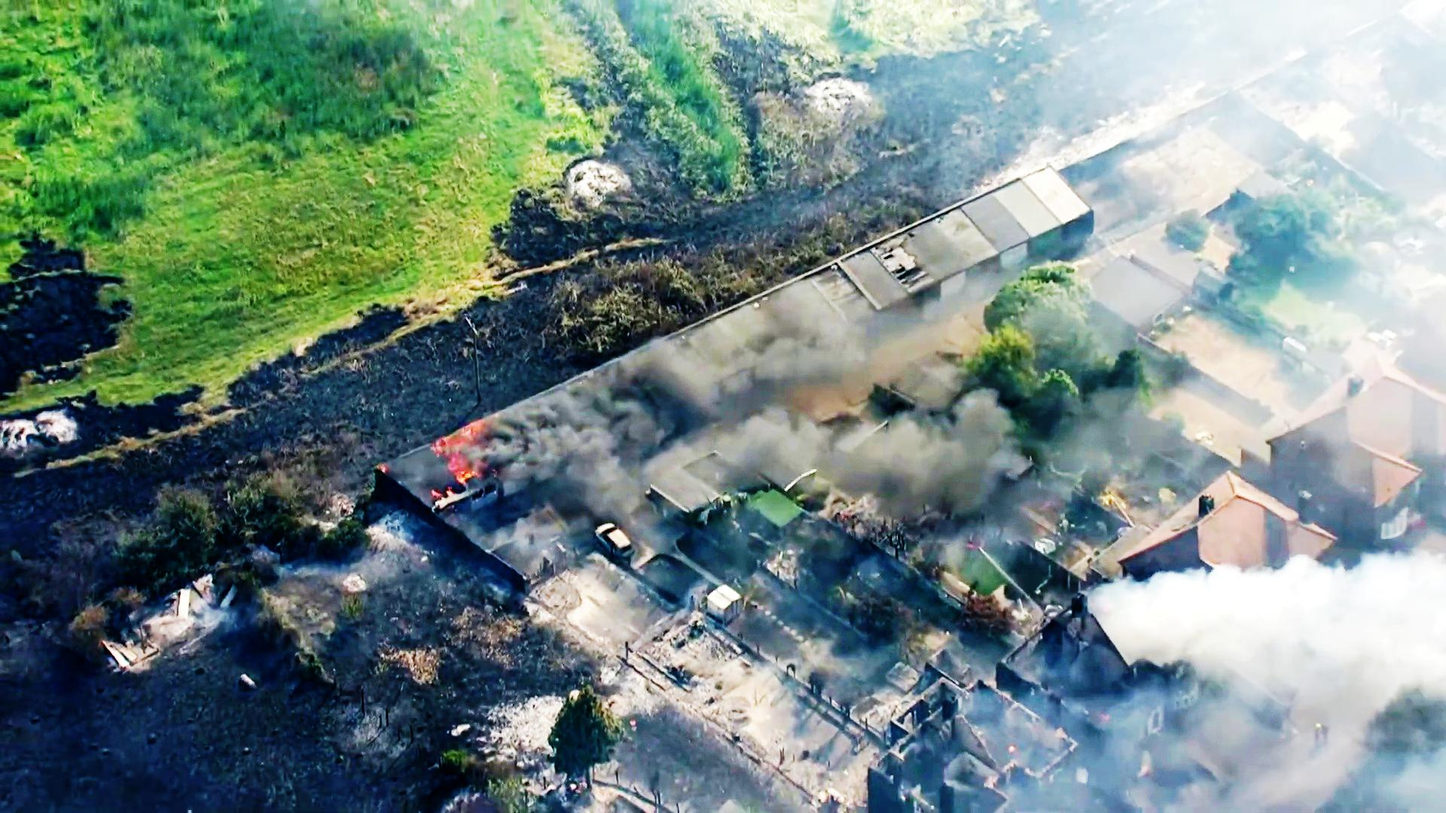fire: (426, 424, 484, 479)
smoke: (1128, 574, 1446, 679), (507, 407, 644, 494)
